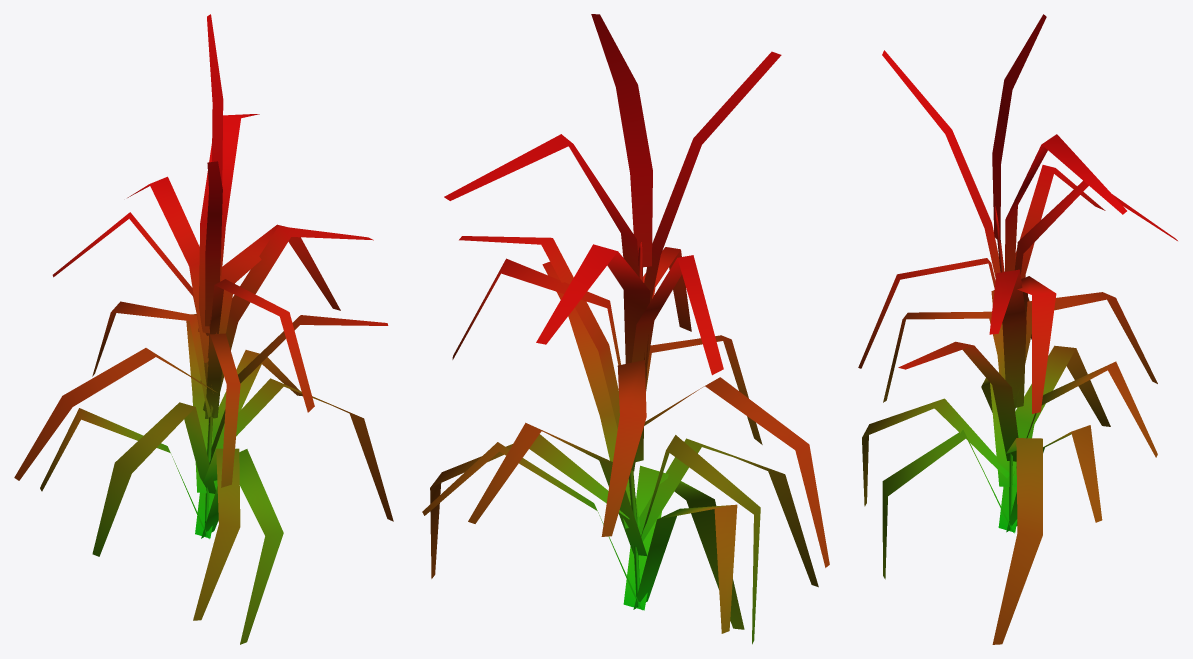
File: Var1_LOD2.fbx
3 views of the same model, side by side, from view 1: azimuth 30°, elevation 25°; view 2: azimuth 150°, elevation 25°; view 3: azimuth 270°, elevation 25° (orthographic). The views are drawn at different scales.
Parts seen in each view (by area): view 1: _ac7f_Var1_LOD2; view 2: _ac7f_Var1_LOD2; view 3: _ac7f_Var1_LOD2.
Part boxes in pixels (<box>): _ac7f_Var1_LOD2: <box>14,14,393,644</box>; _ac7f_Var1_LOD2: <box>422,14,829,644</box>; _ac7f_Var1_LOD2: <box>858,14,1177,644</box>.
Size of the model in its own units: 40.95 by 62.18 by 30.93.
